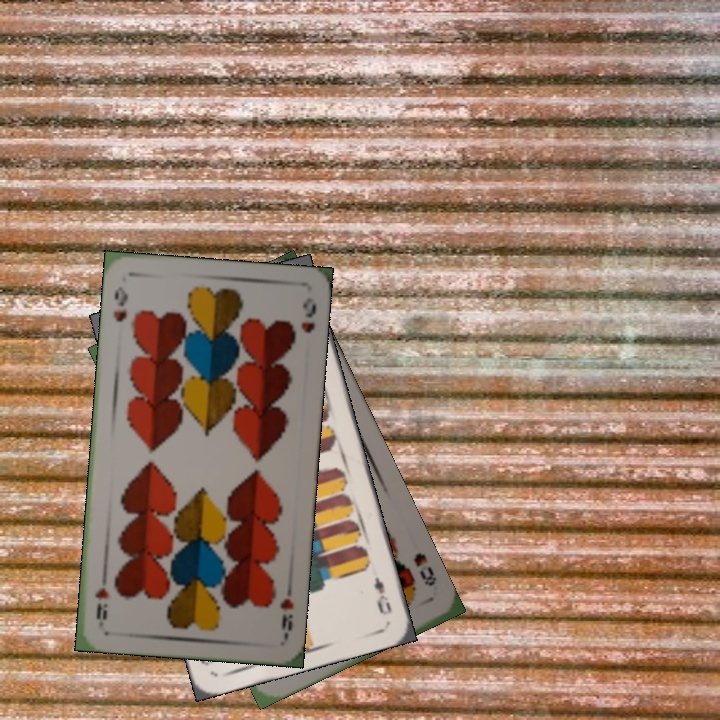E9: (370, 572, 395, 618)
H9: (276, 580, 296, 640), (109, 283, 131, 324)
S8: (409, 548, 439, 589)
